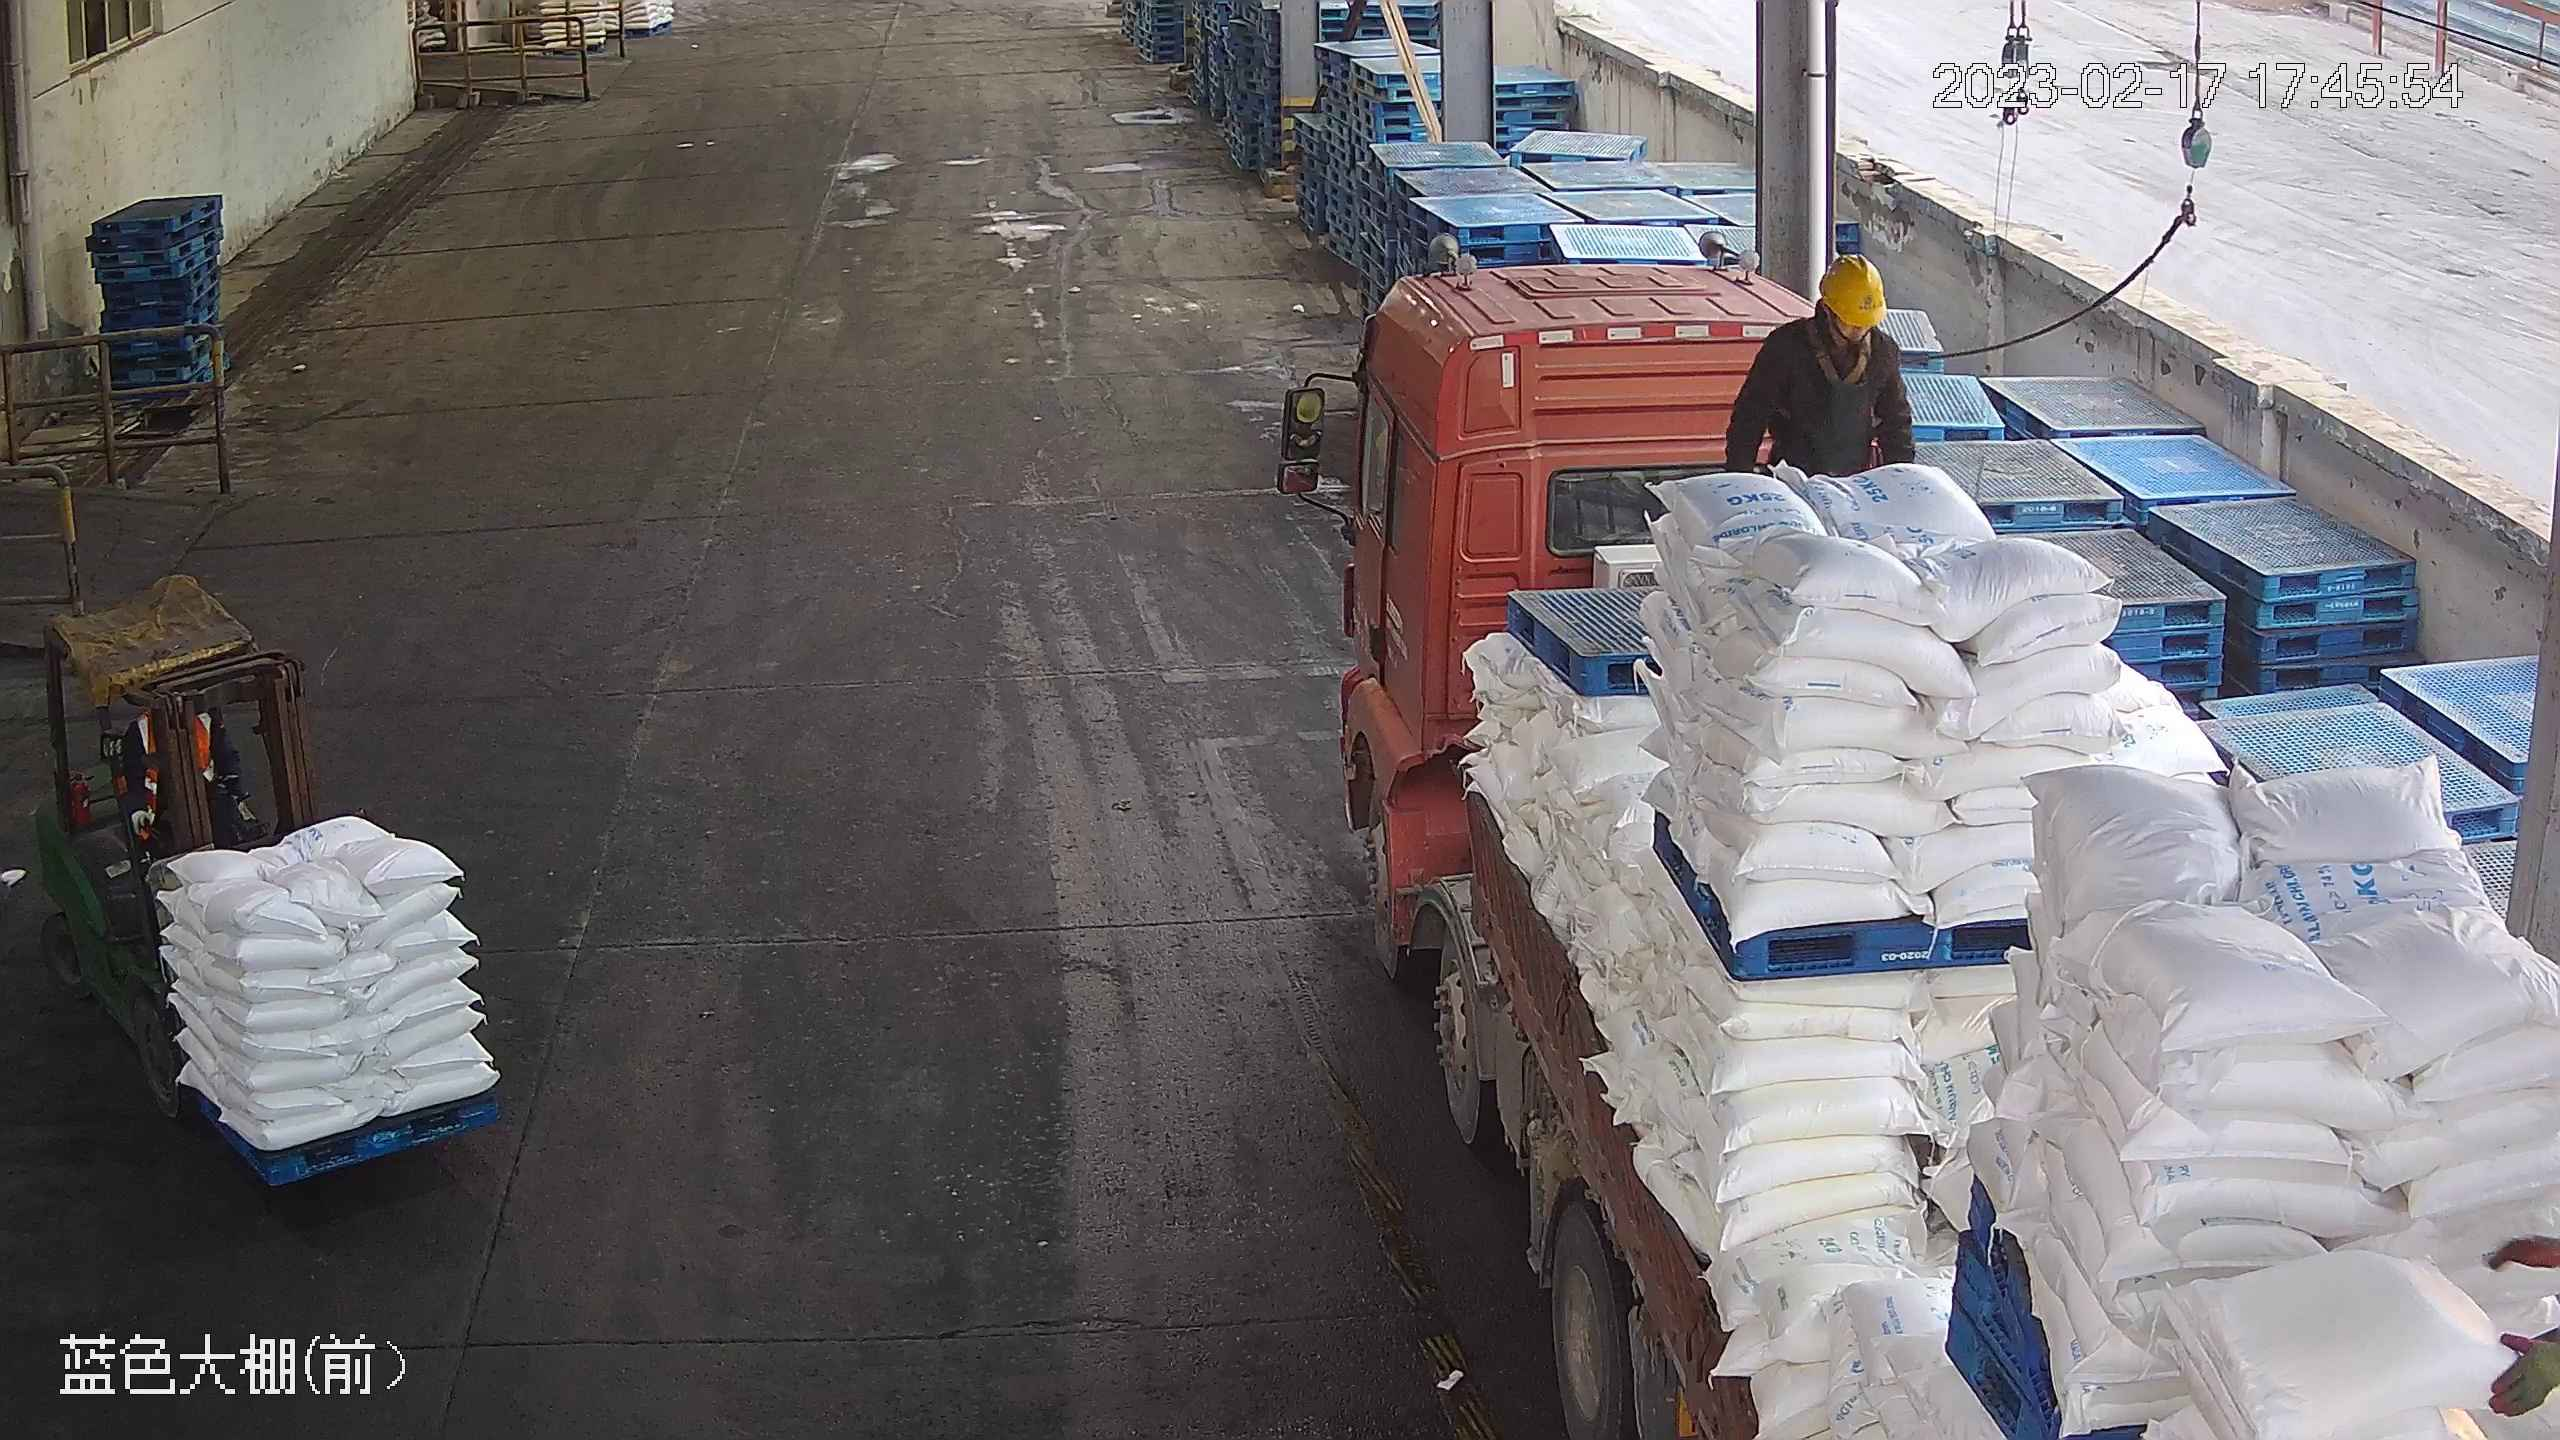belt: (1806, 329, 1874, 391)
head: (1767, 251, 1907, 372)
helmet: (1816, 252, 1891, 332)
truck: (1279, 243, 2560, 1440)
